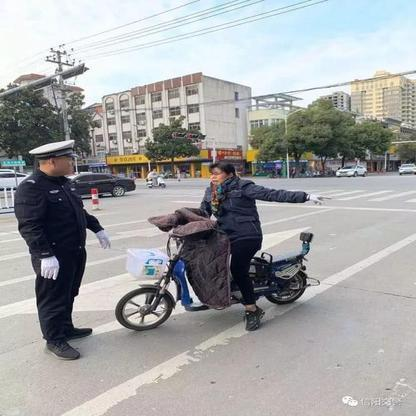target: (114, 160, 332, 334)
